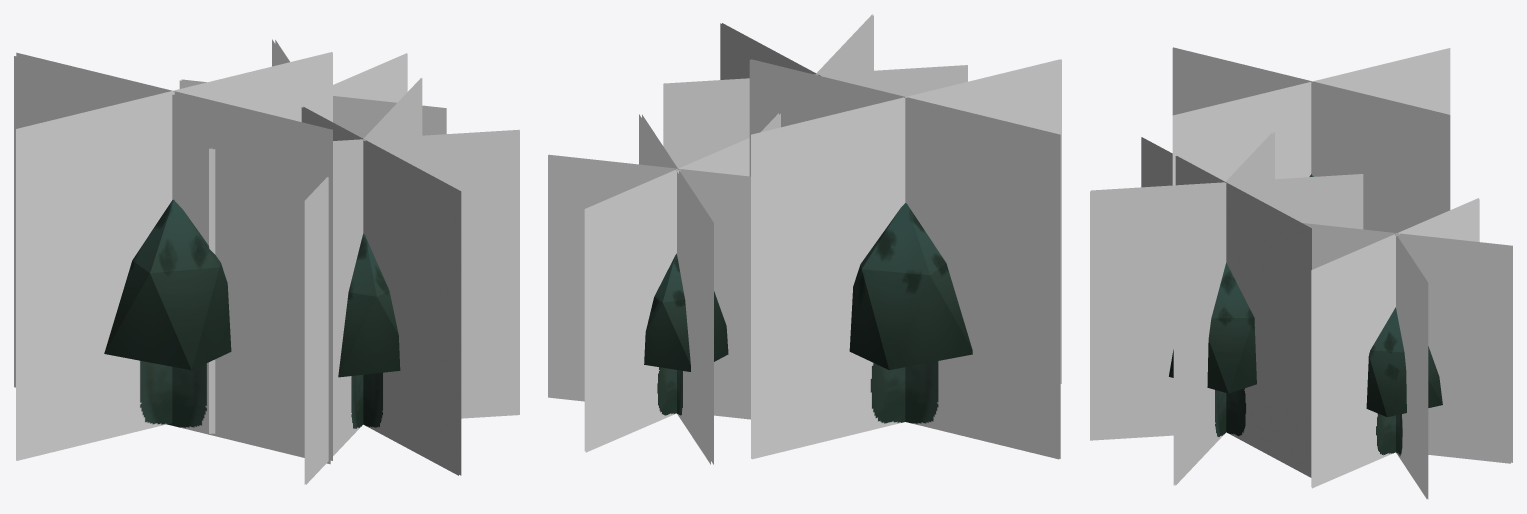
The model's file is Mushrooms_05.fbx.
3 renders of one model, left to right at view 1: azimuth 30°, elevation 25°; view 2: azimuth 150°, elevation 25°; view 3: azimuth 270°, elevation 25°, orthographic. The views are drawn at different scales.
Parts seen in each view (by area): view 1: Mushrooms05; view 2: Mushrooms05; view 3: Mushrooms05.
Part boxes in pixels (<box>): Mushrooms05: <box>14,39,519,484</box>; Mushrooms05: <box>548,14,1061,464</box>; Mushrooms05: <box>1090,47,1512,499</box>.
Size of the model in its own units: 0.1446 by 0.1009 by 0.1321.
Materials: 1 (1 with a texture image).
